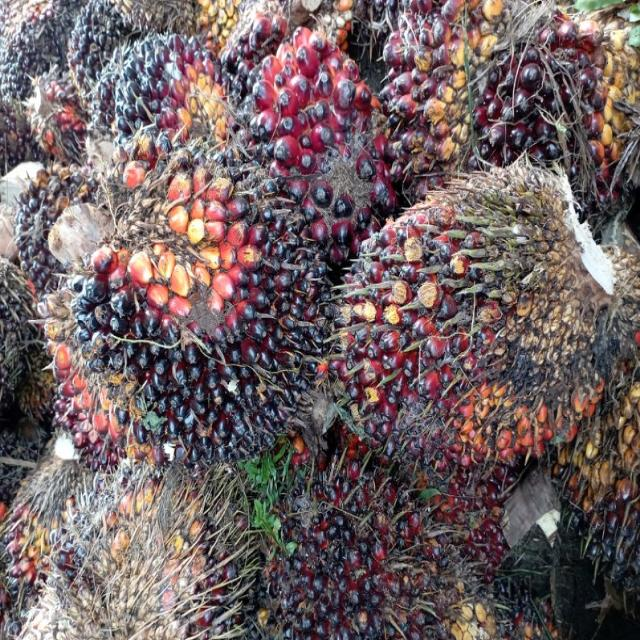fraksi 00: (76, 148, 316, 468), (267, 447, 502, 640), (94, 33, 197, 139), (65, 0, 147, 83), (0, 0, 73, 82)
fraksi 1: (338, 172, 602, 474), (372, 0, 640, 186), (241, 28, 409, 261)
